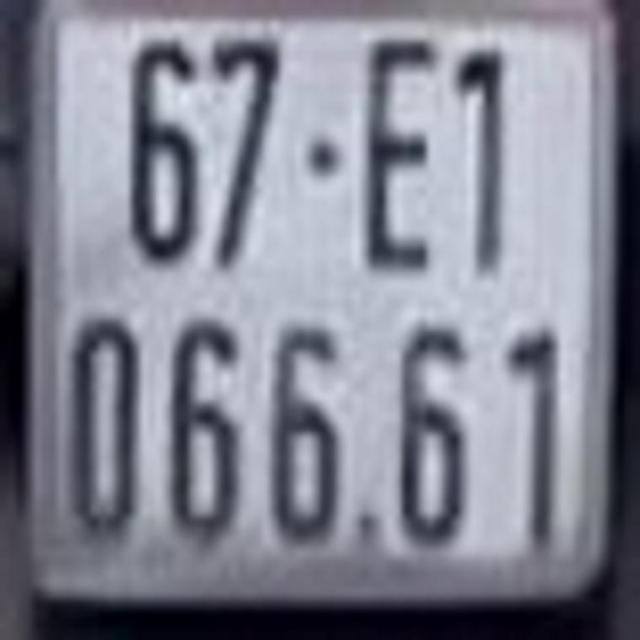0: (68, 320, 135, 534)
1: (450, 42, 506, 279), (508, 332, 554, 548)
6: (125, 34, 198, 253), (172, 321, 242, 546), (400, 325, 467, 554), (276, 328, 340, 543)
7: (210, 36, 282, 279)
E: (365, 34, 436, 272)
